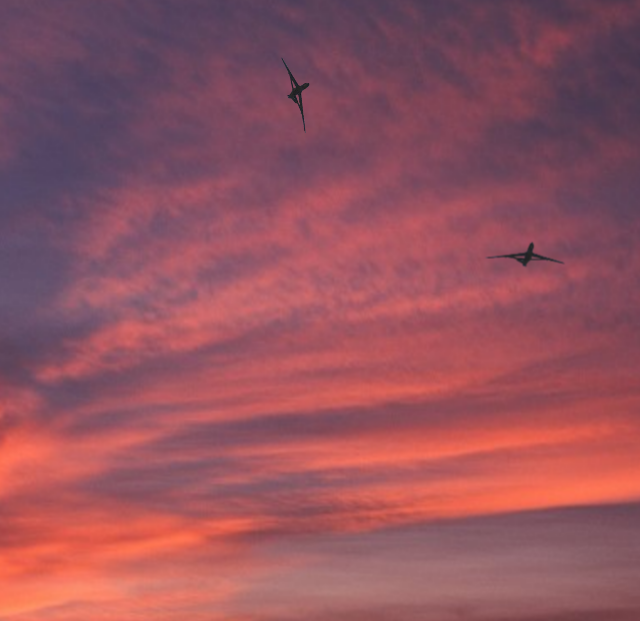military drone: (280, 57, 309, 132), (486, 241, 564, 266)
